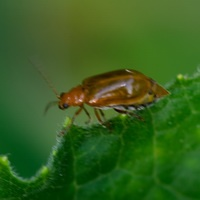insect: (30, 59, 168, 126)
